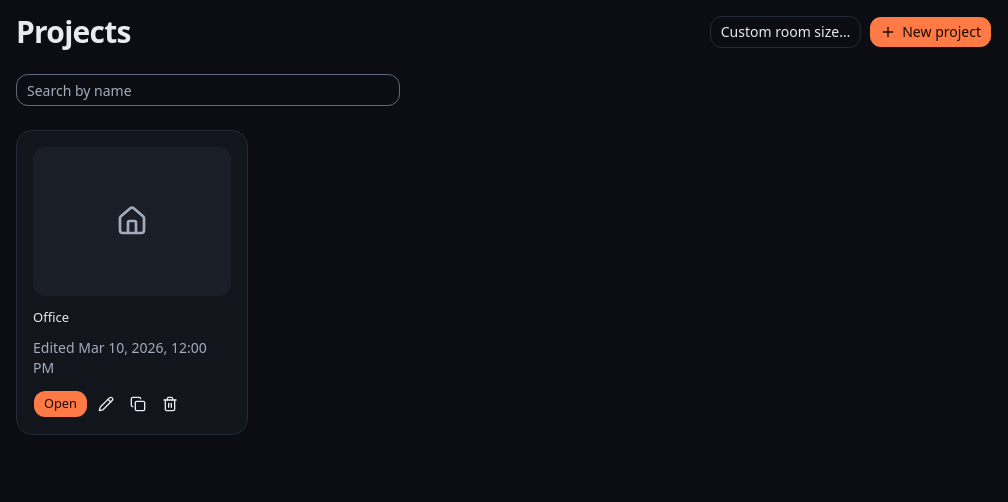
Test: ProjectsScreen: rename › renames with Enter and keeps the focus on the rename button
Check: the list named "Your projects" is shown, box [16, 130, 248, 434]
Click the button named "Rename Office": point(106, 404) [92, 390, 120, 418]
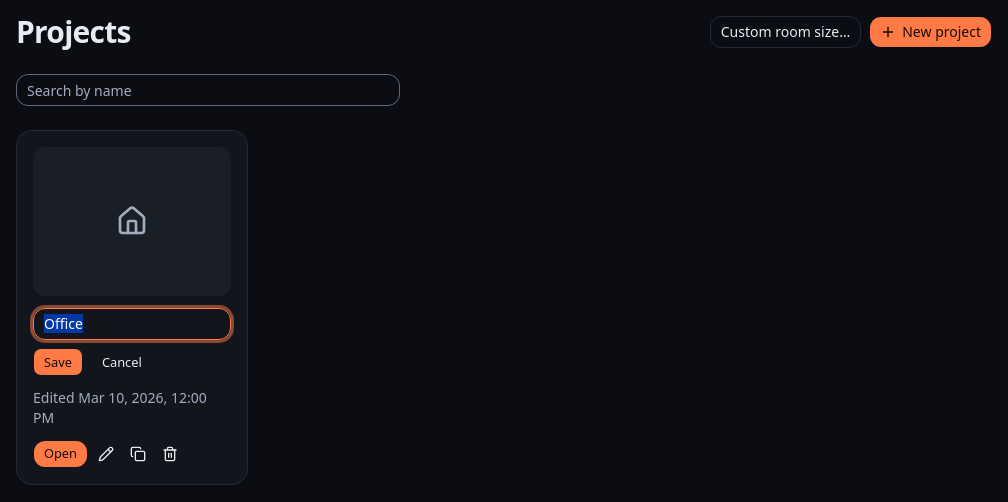
Check: the field named "Project name" holds "Office"
Replace the text in the field named "Project name" with "  Gaming room ": point(132, 324) [33, 308, 231, 340]
Then press Enter
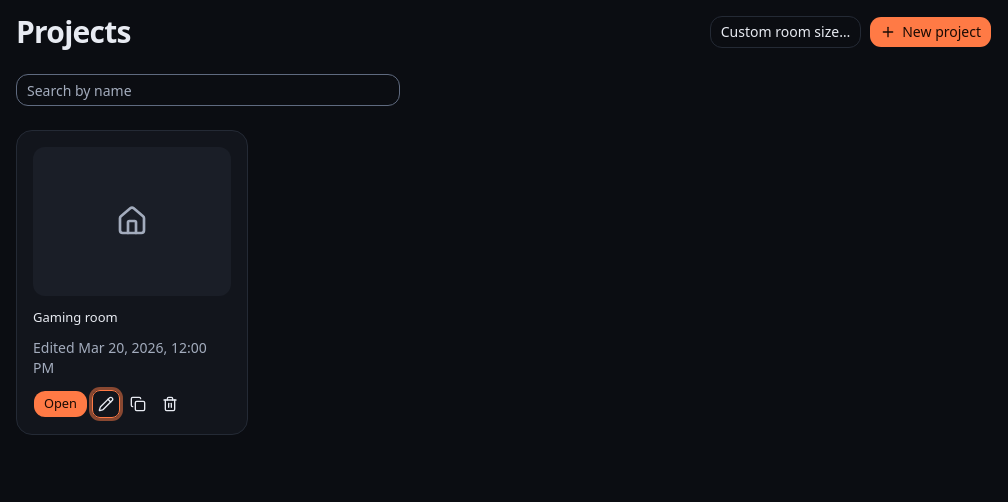
Check: the heading "Gaming room" is shown, box [33, 308, 118, 326]
